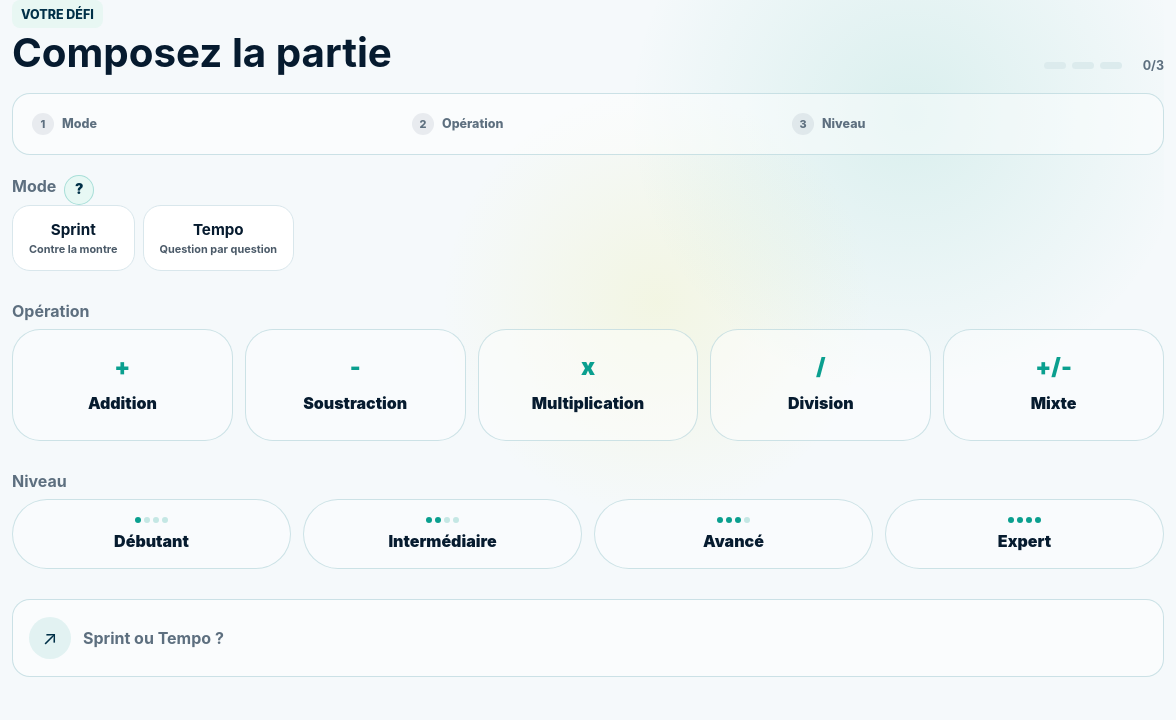
Test: MultiplayerRoomConfigurator › rend la progression de configuration lisible au fil des choix
This screenshot has width=1176, height=720.
Expected: the element named "0 choix sur 3" is shown, [1044,58,1164,72]
Click the button named "SprintContre la montre".
click(73, 238)  # box [12,204,134,270]
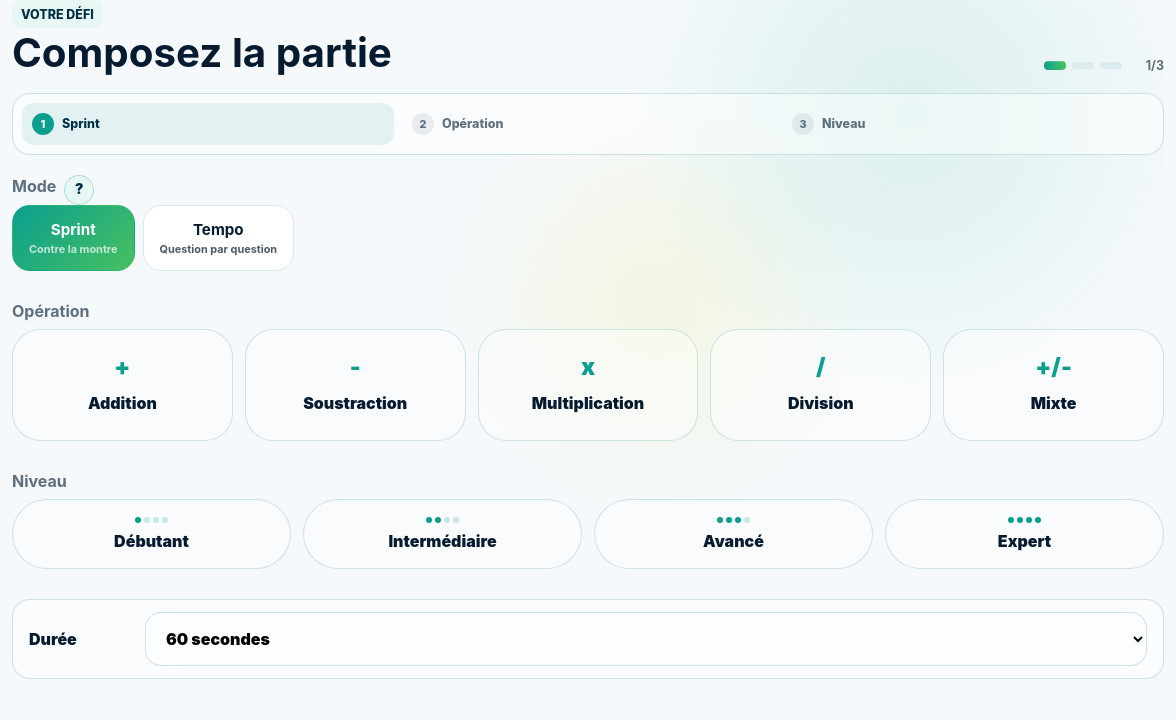
Expected: the element named "1 choix sur 3" is shown, [1044,58,1164,72]
Expected: the dropdown labelled "Durée" is shown, [145,612,1147,666]
Click the button "+ Addition".
click(122, 384)  # box [12,328,233,440]
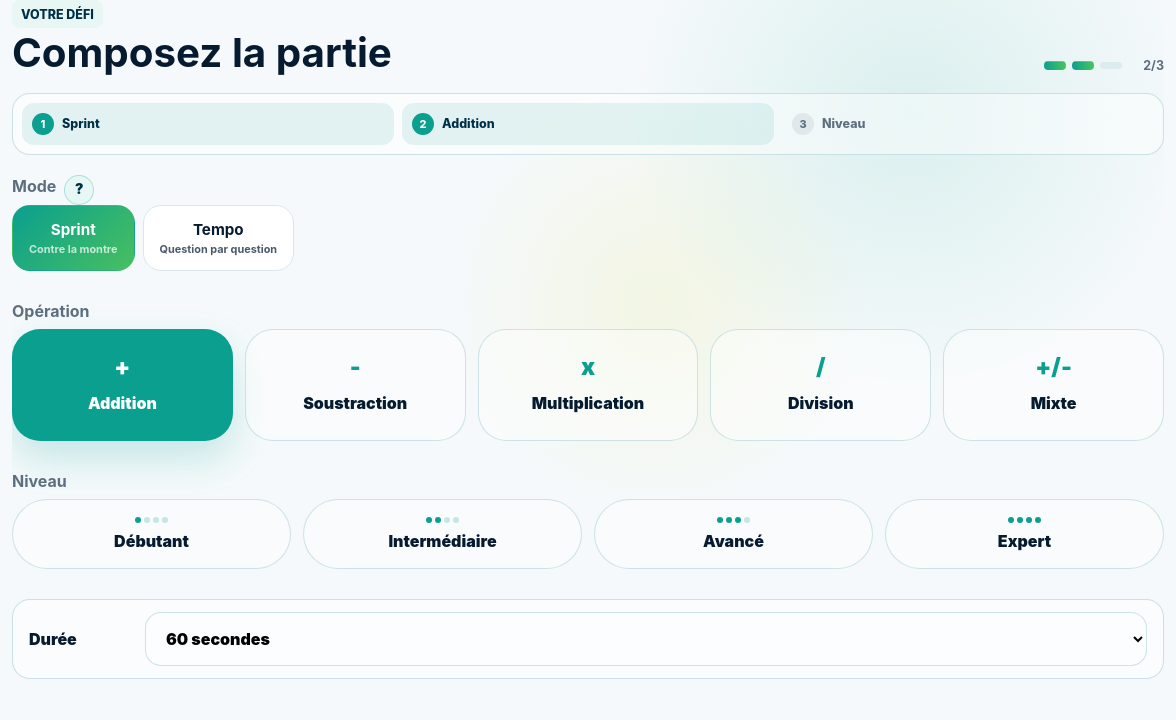
Click the button "Débutant".
click(152, 534)  # box [12,498,291,568]
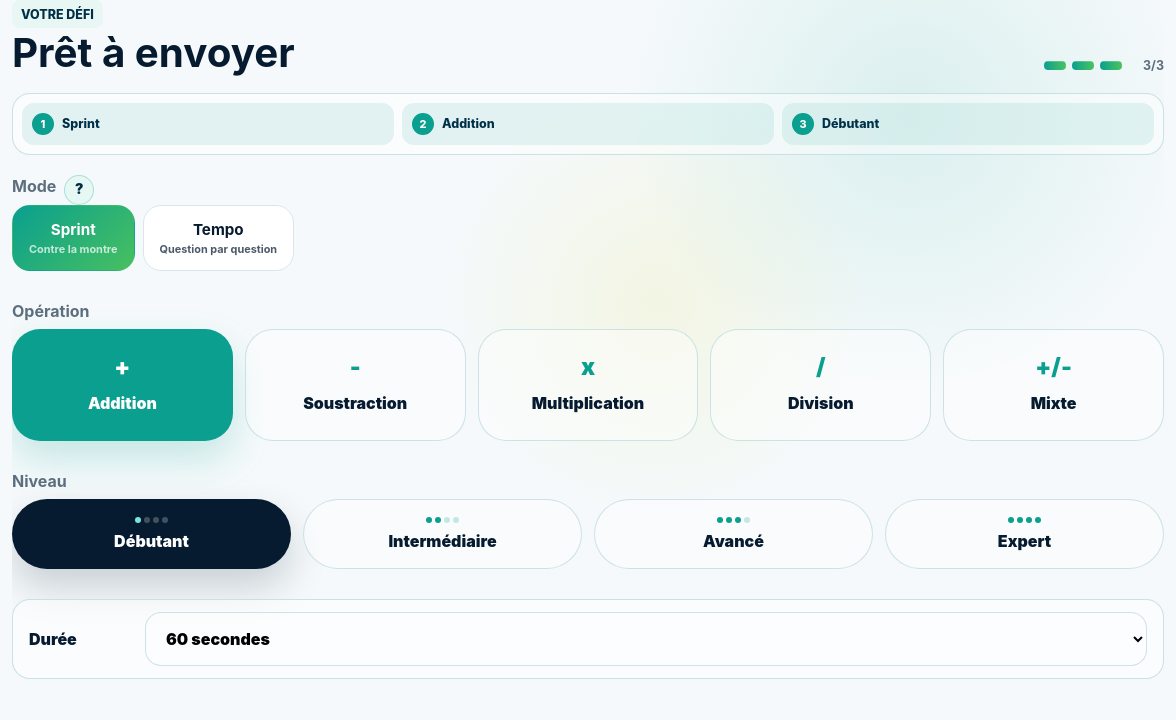
Expected: the heading "Prêt à envoyer" is shown, [12,33,295,72]
Expected: the element named "3 choix sur 3" is shown, [1044,58,1164,72]
